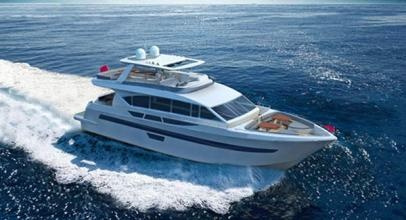yacht: (76, 42, 342, 164)
